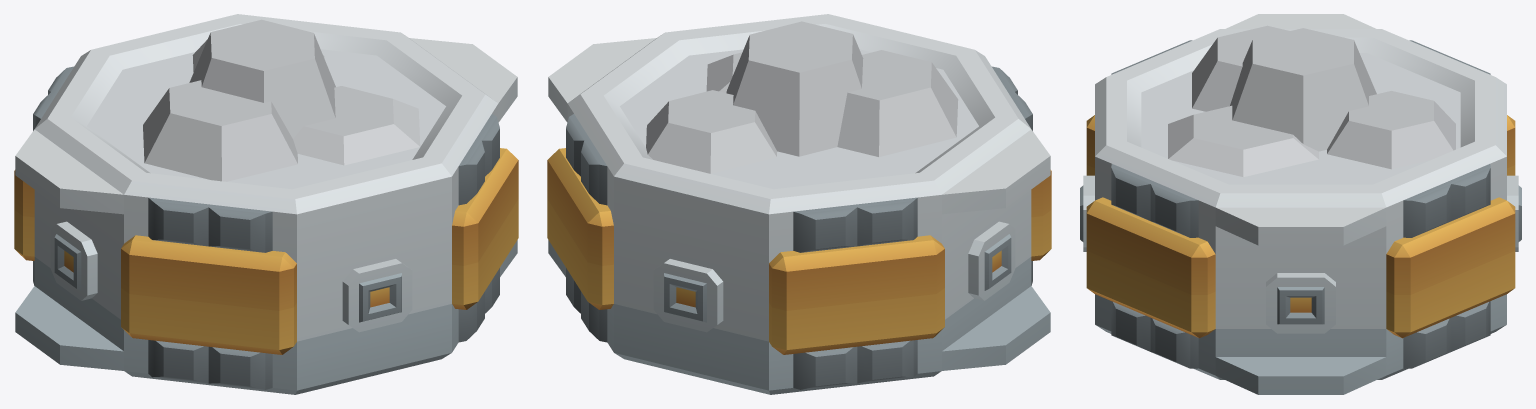
Rendered from RockDrillStation.glb.
3 renders of one model, left to right at view 1: azimuth 30°, elevation 25°; view 2: azimuth 150°, elevation 25°; view 3: azimuth 270°, elevation 25°, orthographic. The views are drawn at different scales.
Parts seen in each view (by area): view 1: basemodule_D_Cylinder.2720, detail_rocks.001; view 2: basemodule_D_Cylinder.2720, detail_rocks.001; view 3: basemodule_D_Cylinder.2720, detail_rocks.001.
Part boxes in pixels (box(x1,y1,x2,y2)): basemodule_D_Cylinder.2720: box(14, 14, 518, 394); detail_rocks.001: box(143, 19, 420, 181); basemodule_D_Cylinder.2720: box(547, 14, 1051, 394); detail_rocks.001: box(646, 21, 958, 173); basemodule_D_Cylinder.2720: box(1080, 14, 1521, 394); detail_rocks.001: box(1168, 25, 1455, 177).
Size of the model in its own units: 2.44 by 1.31 by 2.14.
Materials: 2 (1 with a texture image).
